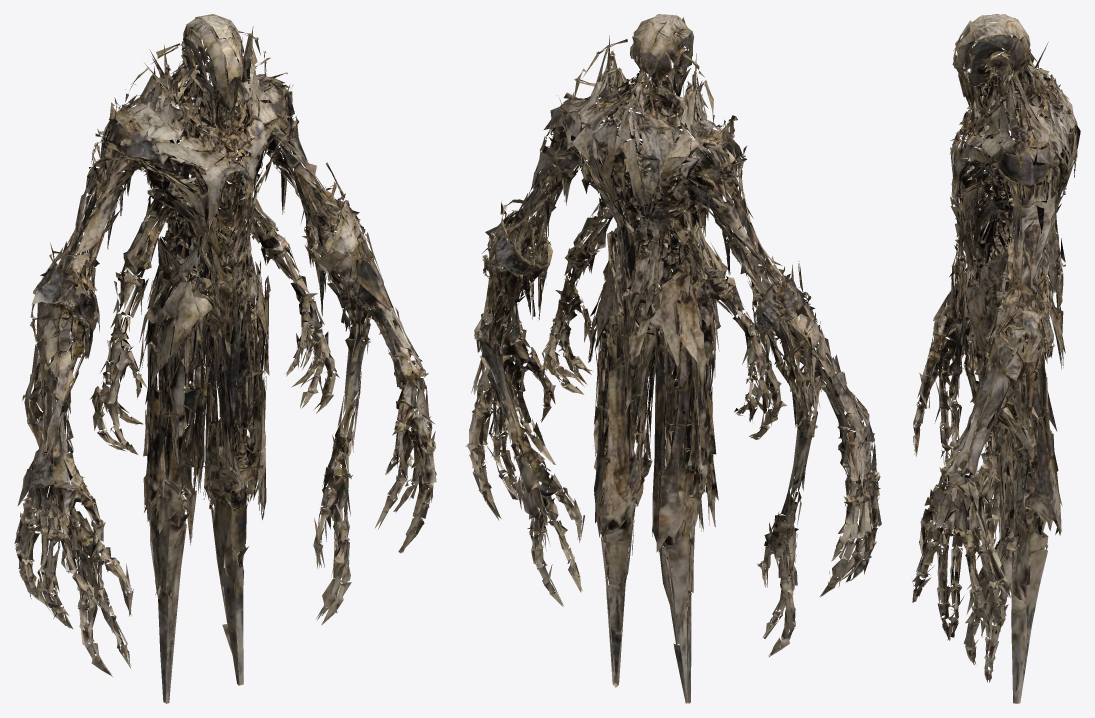
Rendered from saint.glb.
The picture shows the model from 3 angles, left to right: view 1: azimuth 30°, elevation 25°; view 2: azimuth 150°, elevation 25°; view 3: azimuth 270°, elevation 25°; orthographic projection. The views are drawn at different scales.
Visible parts, largest first — view 1: output_unwrapped; view 2: output_unwrapped; view 3: output_unwrapped.
Boxes of the visible parts, x1=… form: output_unwrapped: x1=14, y1=14, x2=436, y2=703; output_unwrapped: x1=465, y1=14, x2=881, y2=703; output_unwrapped: x1=912, y1=14, x2=1080, y2=703.
Bounding box in the file's own units: 1.17 × 1.91 × 0.4403.
1 material, 1 textured.
